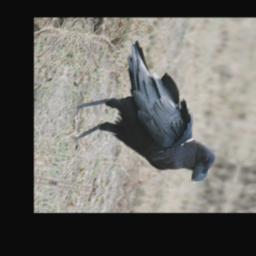Crow: (60, 34, 243, 187)
